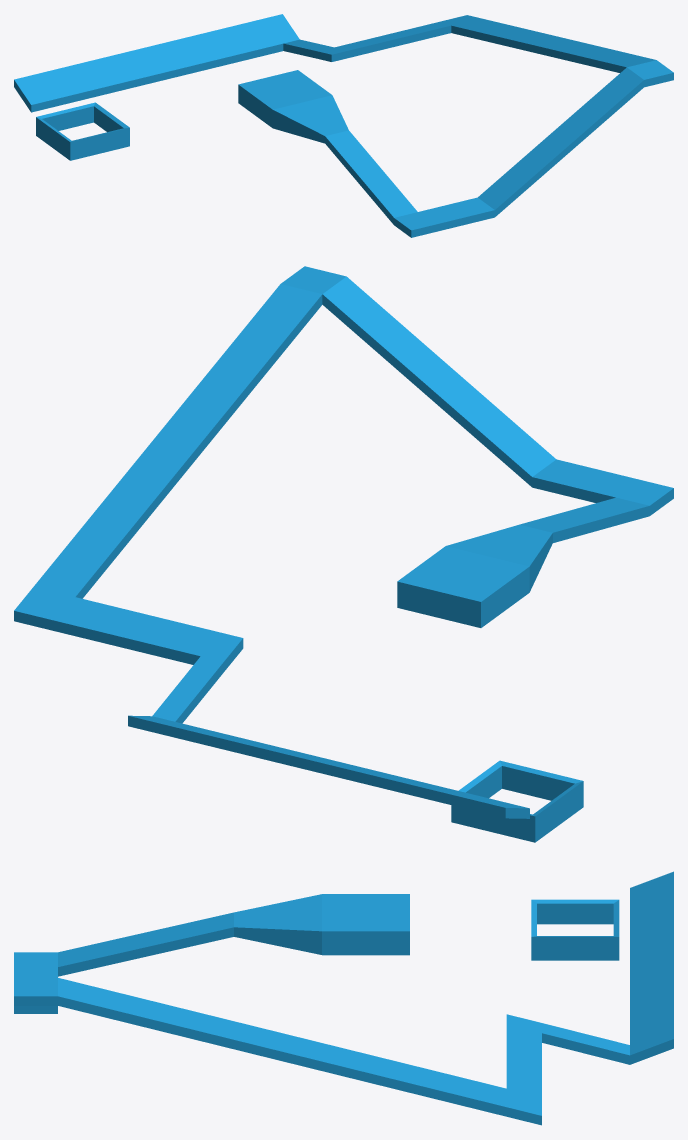
The model's file is model_map_16.fbx.
3 renders of one model, top to bottom at view 1: azimuth 30°, elevation 25°; view 2: azimuth 150°, elevation 25°; view 3: azimuth 270°, elevation 25°, orthographic. The views are drawn at different scales.
Parts seen in each view (by area): view 1: col, lvl; view 2: col, lvl; view 3: col, lvl.
Boxes of the visible parts, x1,y1,x2,y2 form: col: [14, 14, 673, 230]; lvl: [14, 25, 673, 237]; col: [14, 266, 673, 816]; lvl: [14, 294, 673, 842]; col: [14, 871, 673, 1115]; lvl: [14, 903, 673, 1125].
Size of the model in its own units: 1345 by 444 by 1500.
